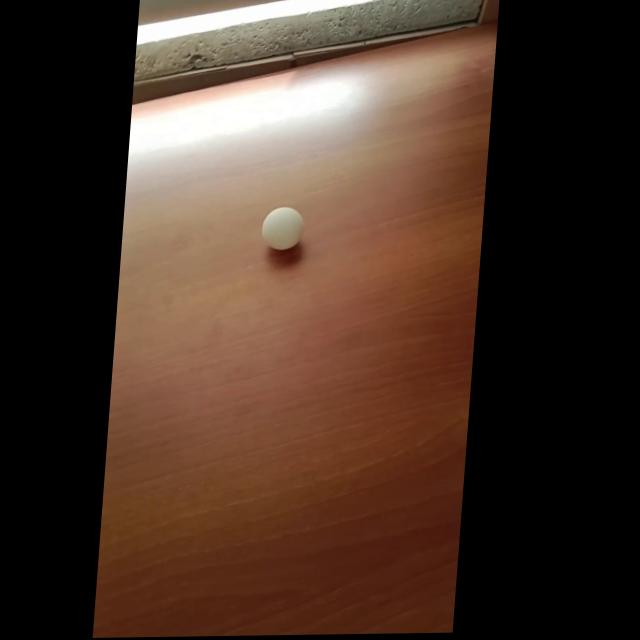white ball: (260, 206, 305, 251)
